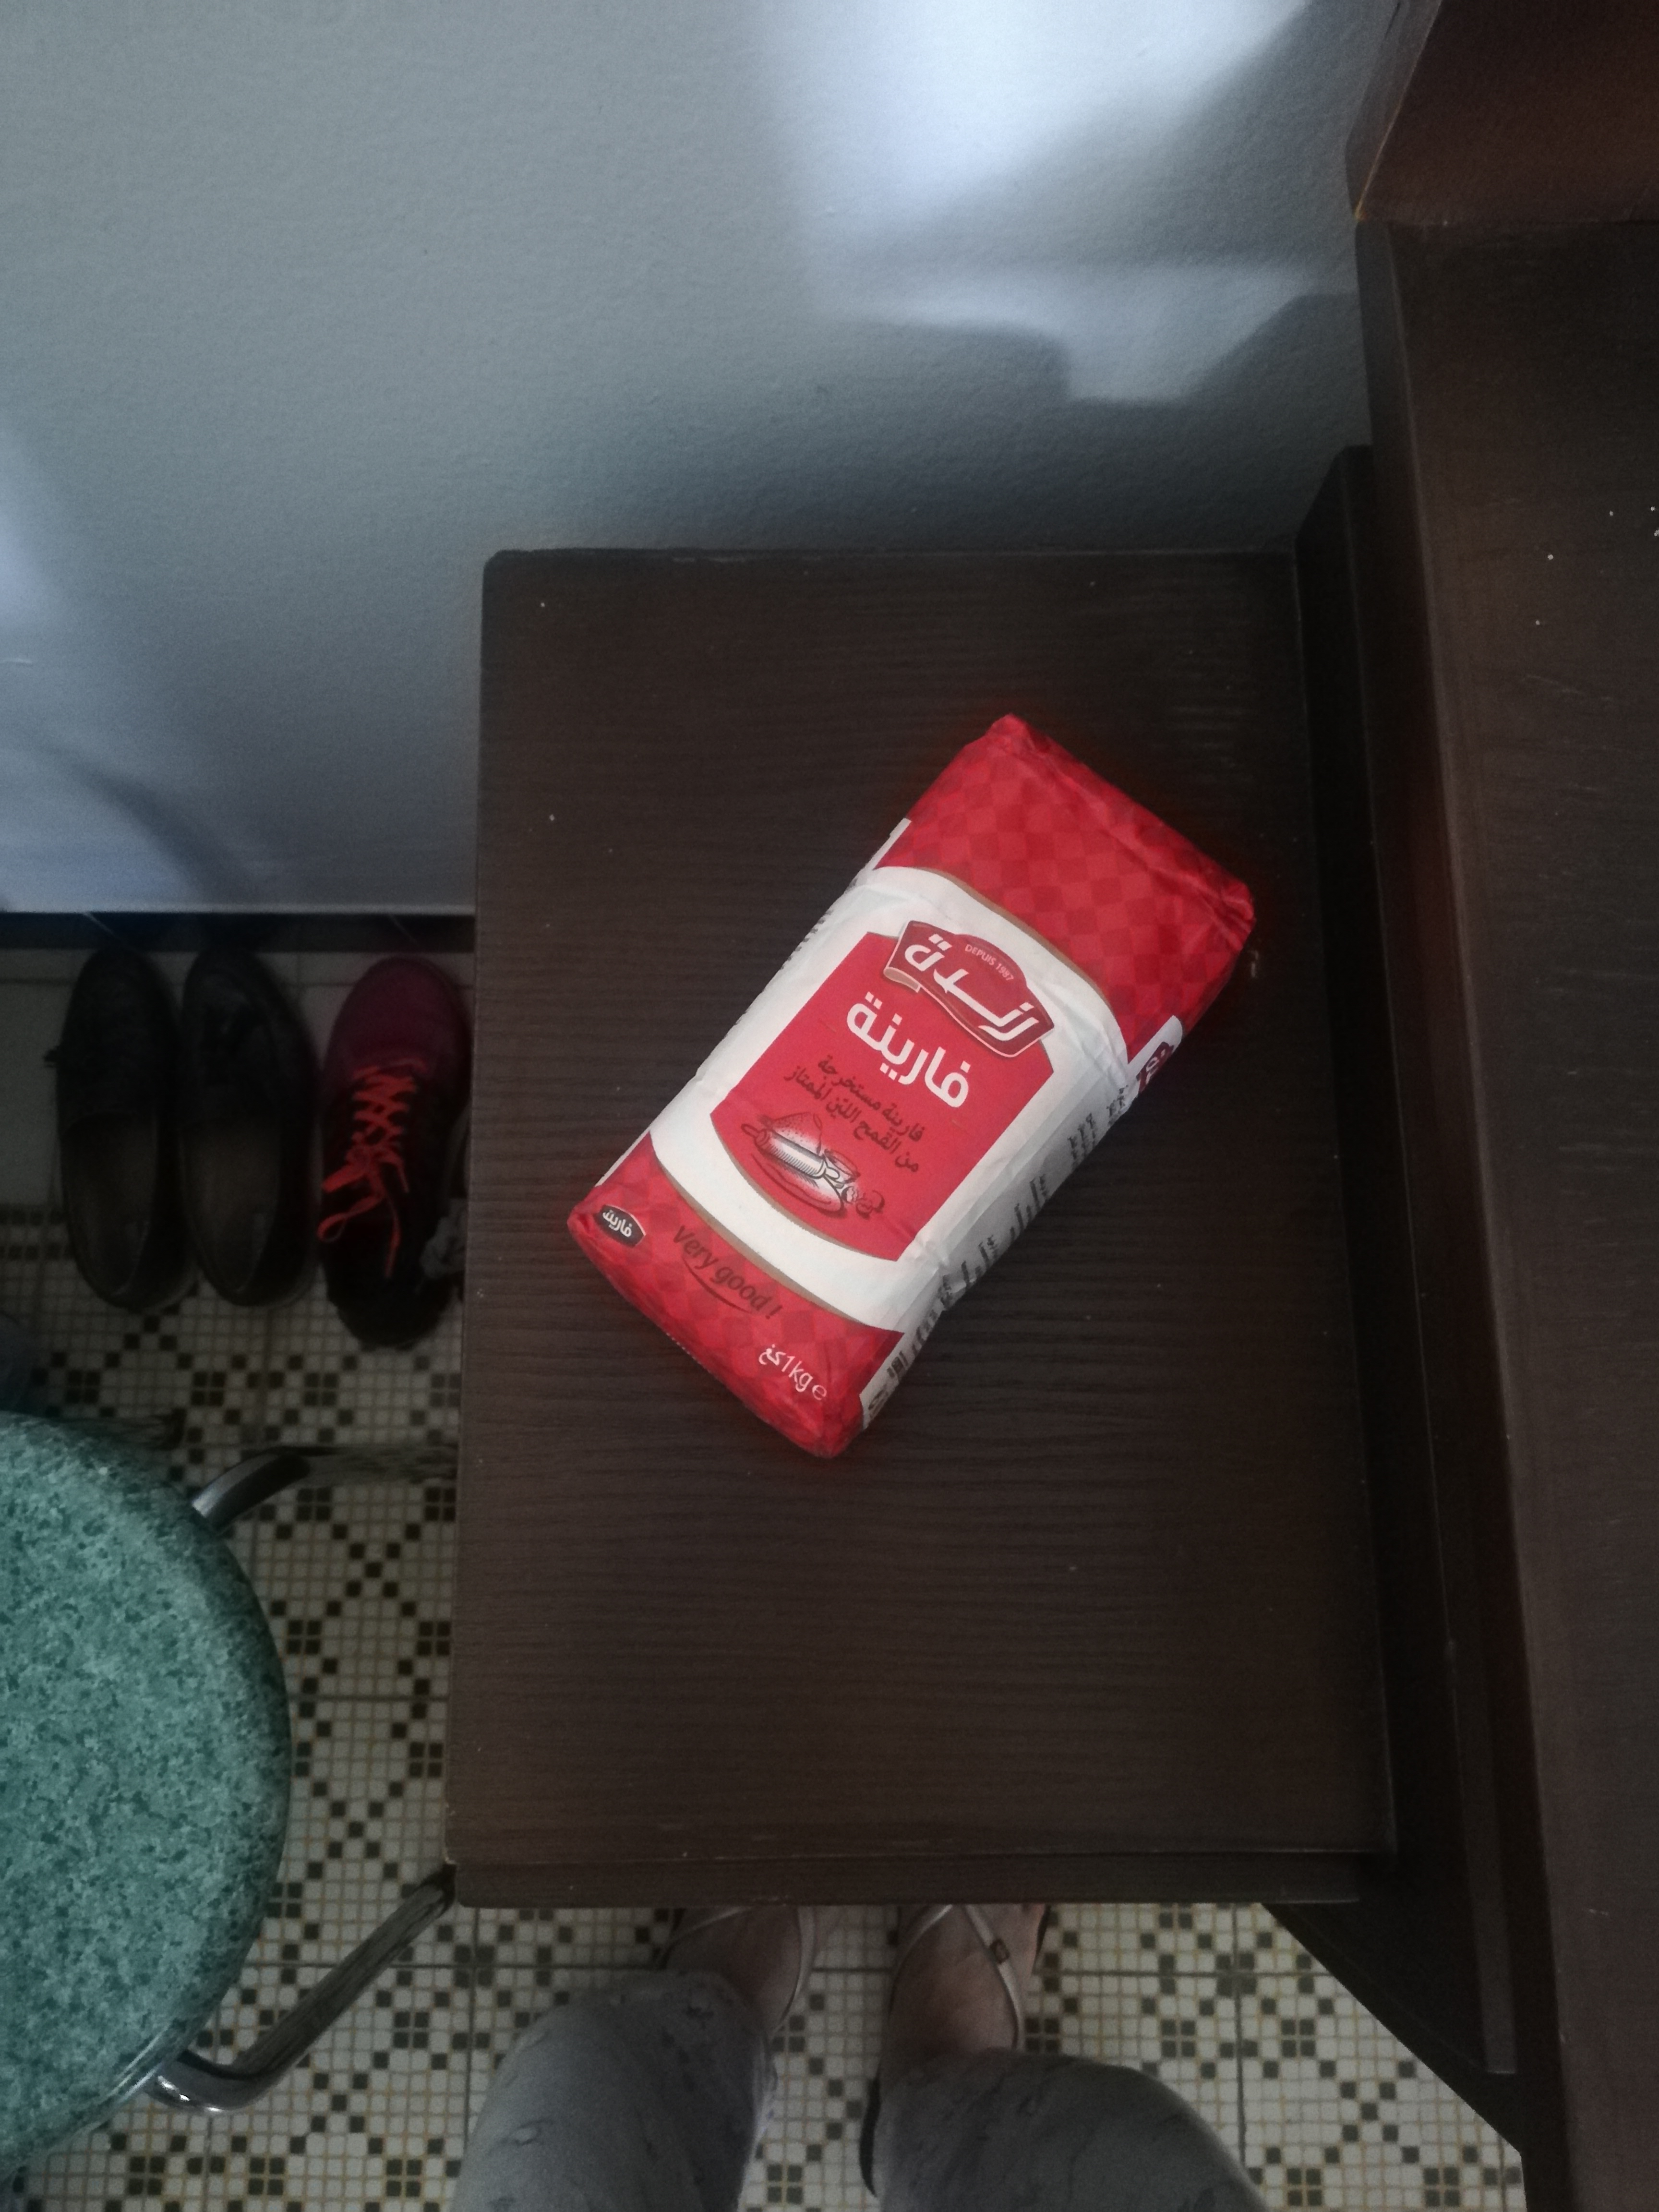Farine Randa: (565, 709, 1265, 1460)
